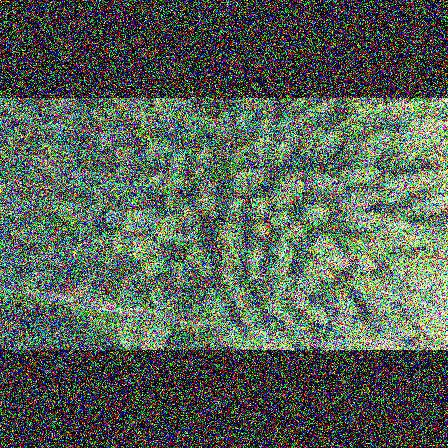Sick: (65, 168, 86, 188), (247, 268, 269, 286), (221, 328, 241, 345), (135, 272, 154, 288), (111, 126, 129, 139), (172, 231, 186, 247), (170, 161, 184, 177), (282, 312, 299, 325), (161, 143, 175, 158), (184, 227, 199, 240), (99, 134, 114, 146)
